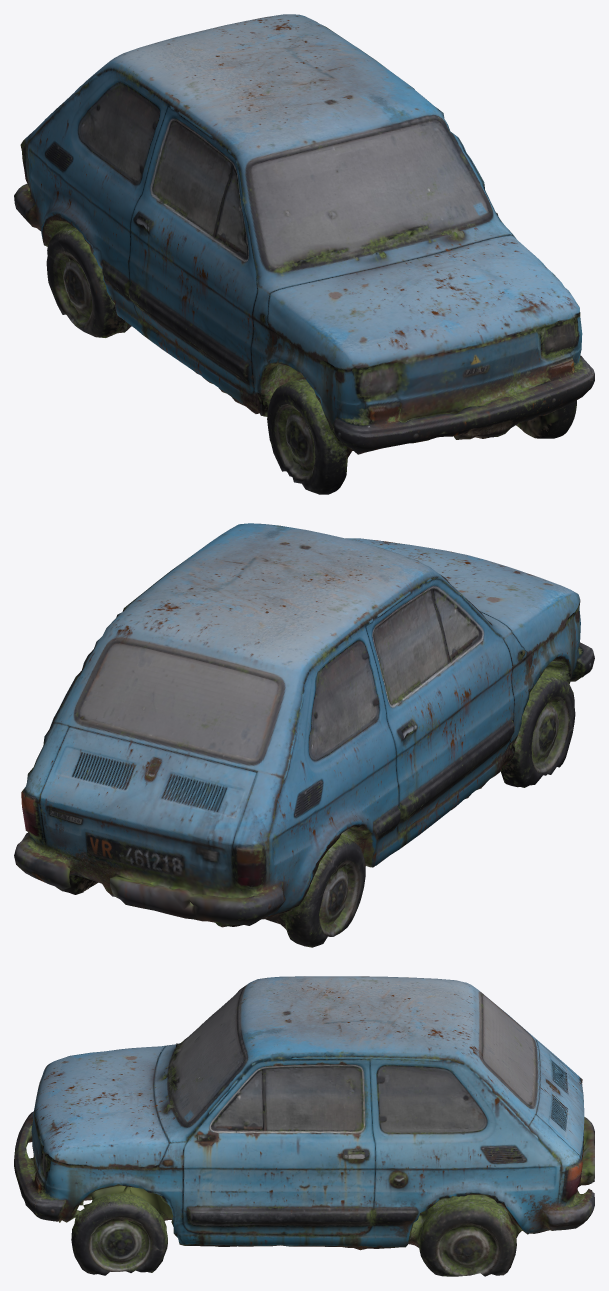
The model's file is fiat 126.fbx.
3 renders of one model, top to bottom at view 1: azimuth 30°, elevation 25°; view 2: azimuth 150°, elevation 25°; view 3: azimuth 270°, elevation 25°, orthographic. The views are drawn at different scales.
Visible parts, largest first — view 1: fiat 126; view 2: fiat 126; view 3: fiat 126.
Part boxes in pixels (x1,y1,x2,y2): fiat 126: (14,14,594,494); fiat 126: (14,523,594,947); fiat 126: (14,976,594,1276).
Bounding box in the file's own units: 864 × 801 × 1929.
